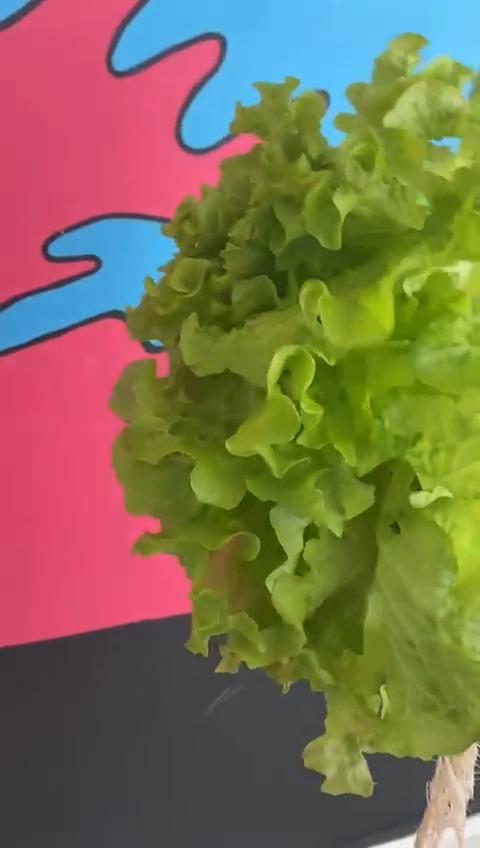Healthy: (98, 27, 480, 798)
